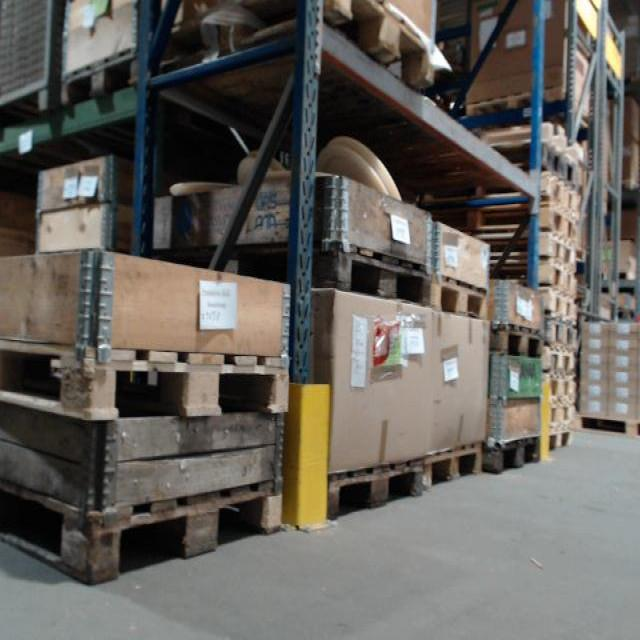pallet: (0, 480, 284, 585), (0, 338, 290, 423), (156, 242, 429, 309), (322, 0, 435, 93), (327, 459, 424, 522), (60, 48, 153, 111), (470, 86, 564, 125), (429, 269, 490, 324), (422, 444, 484, 493), (488, 319, 543, 359), (484, 436, 541, 473), (577, 415, 640, 439), (540, 235, 576, 277), (544, 201, 576, 248), (544, 265, 580, 300), (541, 179, 577, 213), (546, 319, 576, 352), (550, 401, 576, 432), (549, 352, 576, 380), (546, 300, 580, 319), (549, 380, 576, 401), (550, 432, 576, 453)
stillage: (0, 1, 69, 138)
